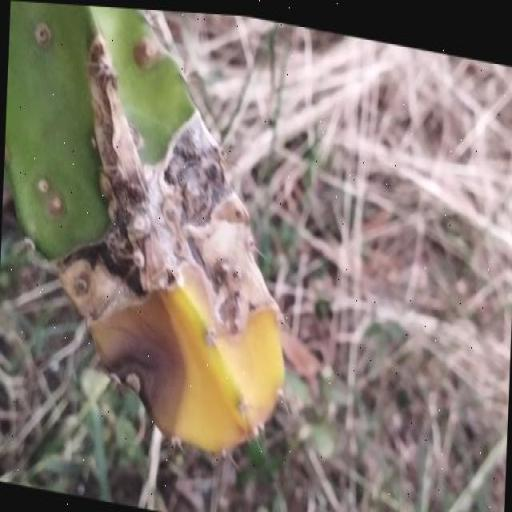stemcanker: (462, 43, 483, 70), (480, 3, 506, 23), (458, 190, 478, 214), (442, 211, 459, 236)
